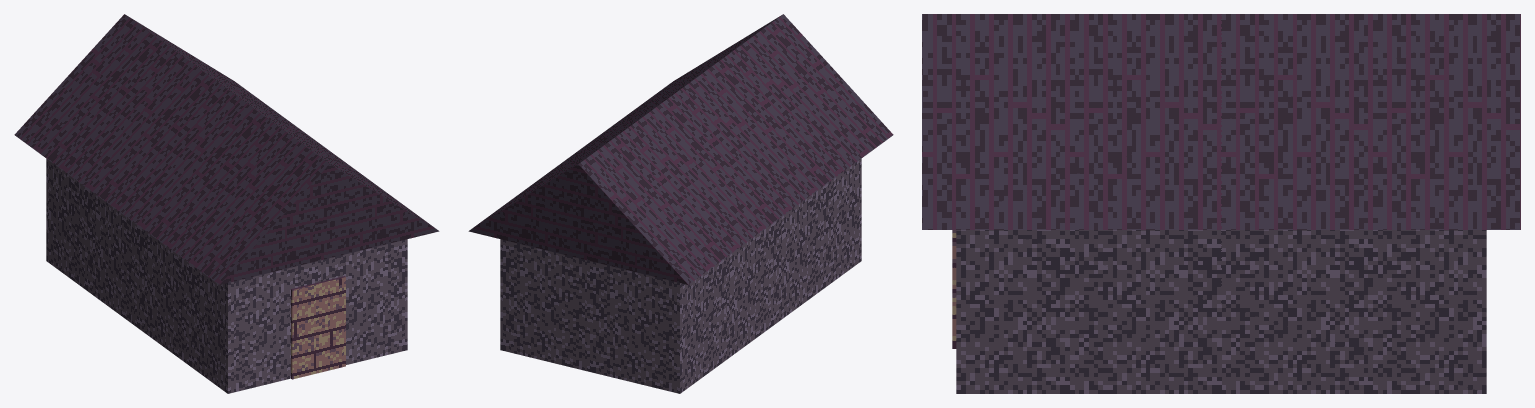
Rendered from mosteiro_ordem_luz_mosteiro.glb.
3 renders of one model, left to right at view 1: azimuth 30°, elevation 25°; view 2: azimuth 150°, elevation 25°; view 3: azimuth 270°, elevation 25°, orthographic. The views are drawn at different scales.
Visible parts, largest first — view 1: mosteiro_ordem_luz_mosteiro; view 2: mosteiro_ordem_luz_mosteiro; view 3: mosteiro_ordem_luz_mosteiro.
Boxes of the visible parts, x1,y1,x2,y2 form: mosteiro_ordem_luz_mosteiro: (14,14,439,393); mosteiro_ordem_luz_mosteiro: (468,14,893,393); mosteiro_ordem_luz_mosteiro: (922,14,1520,393).
Size of the model in its own units: 4.9 by 4.6 by 7.9.
3 materials, 3 textured.
